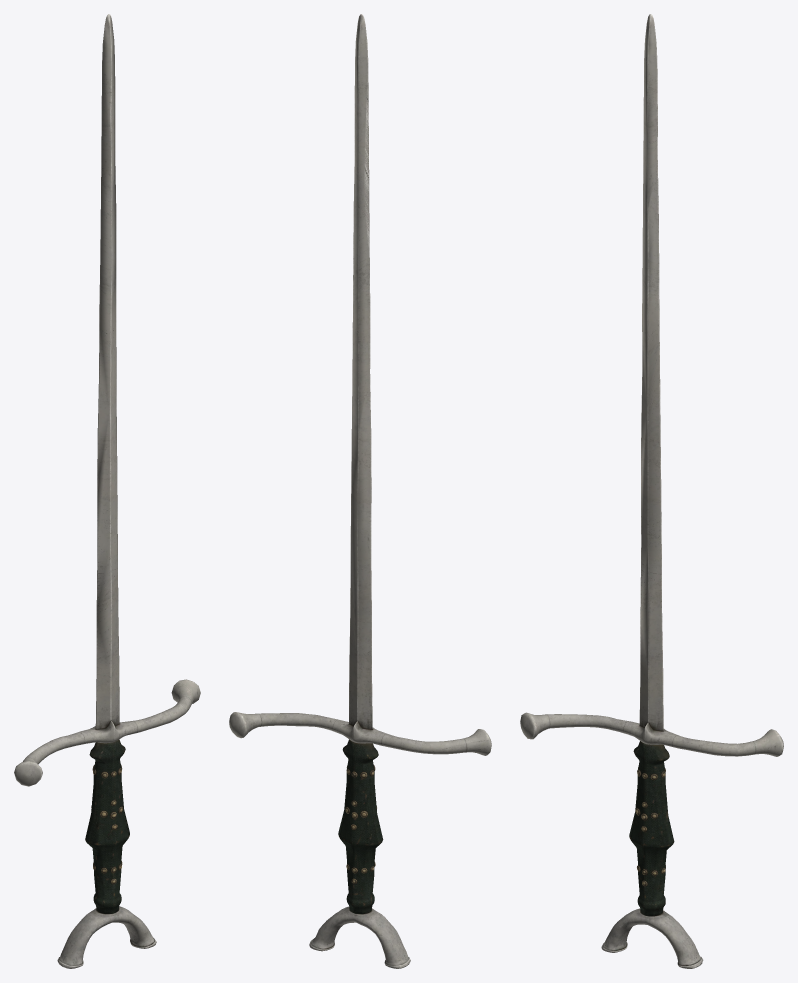
The model's file is antique_estoc.glb.
3 views of the same model, side by side, from view 1: azimuth 30°, elevation 25°; view 2: azimuth 150°, elevation 25°; view 3: azimuth 330°, elevation 25° (orthographic).
Parts seen in each view (by area): view 1: antique_estoc; view 2: antique_estoc; view 3: antique_estoc.
Boxes of the visible parts, left/top/right/bottom form: antique_estoc: left=14, top=14, right=200, bottom=968; antique_estoc: left=229, top=14, right=491, bottom=968; antique_estoc: left=520, top=14, right=783, bottom=968.
Size of the model in its own units: 0.3715 by 1.49 by 0.149.
Materials: 1 (1 with a texture image).
